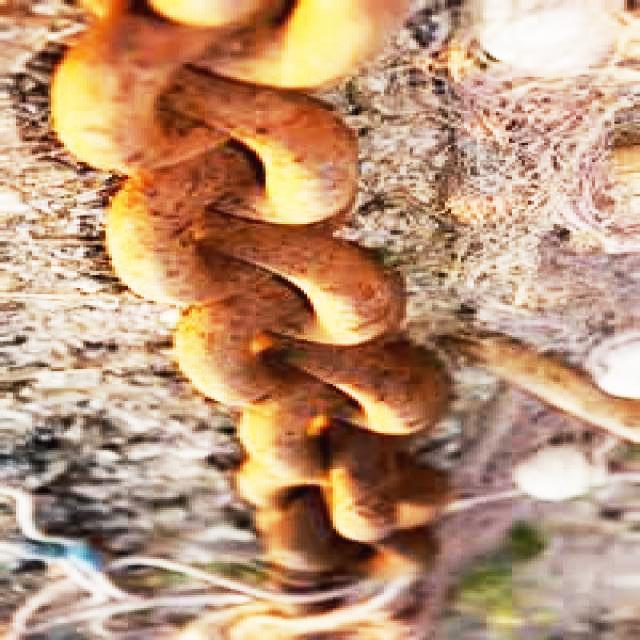Corrosion: (54, 0, 461, 578)
